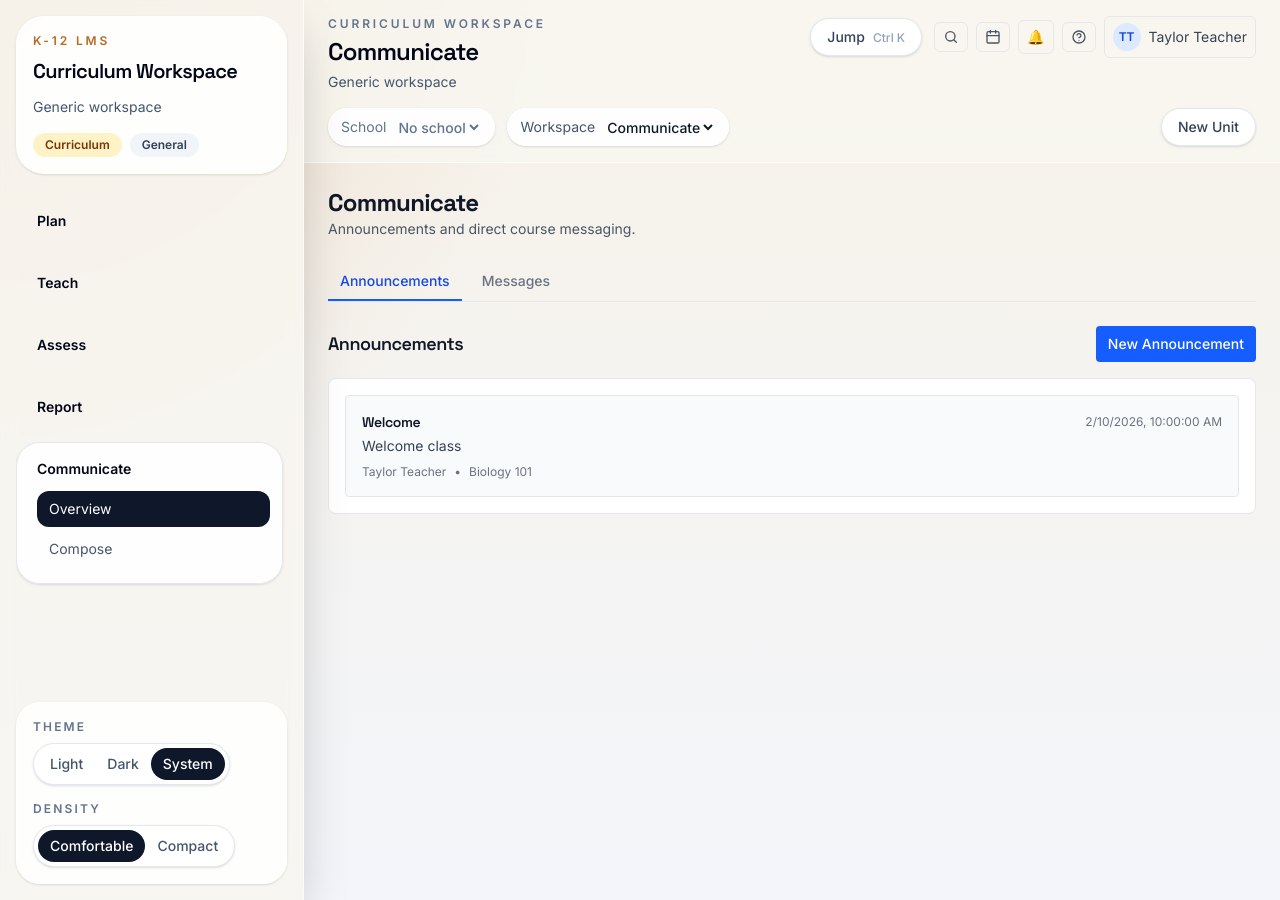
Communicate Page › switches to Messages tab
The image size is (1280, 900).
Step 1. Click the tab "Messages" → click(516, 282), box 470,263 -> 562,301
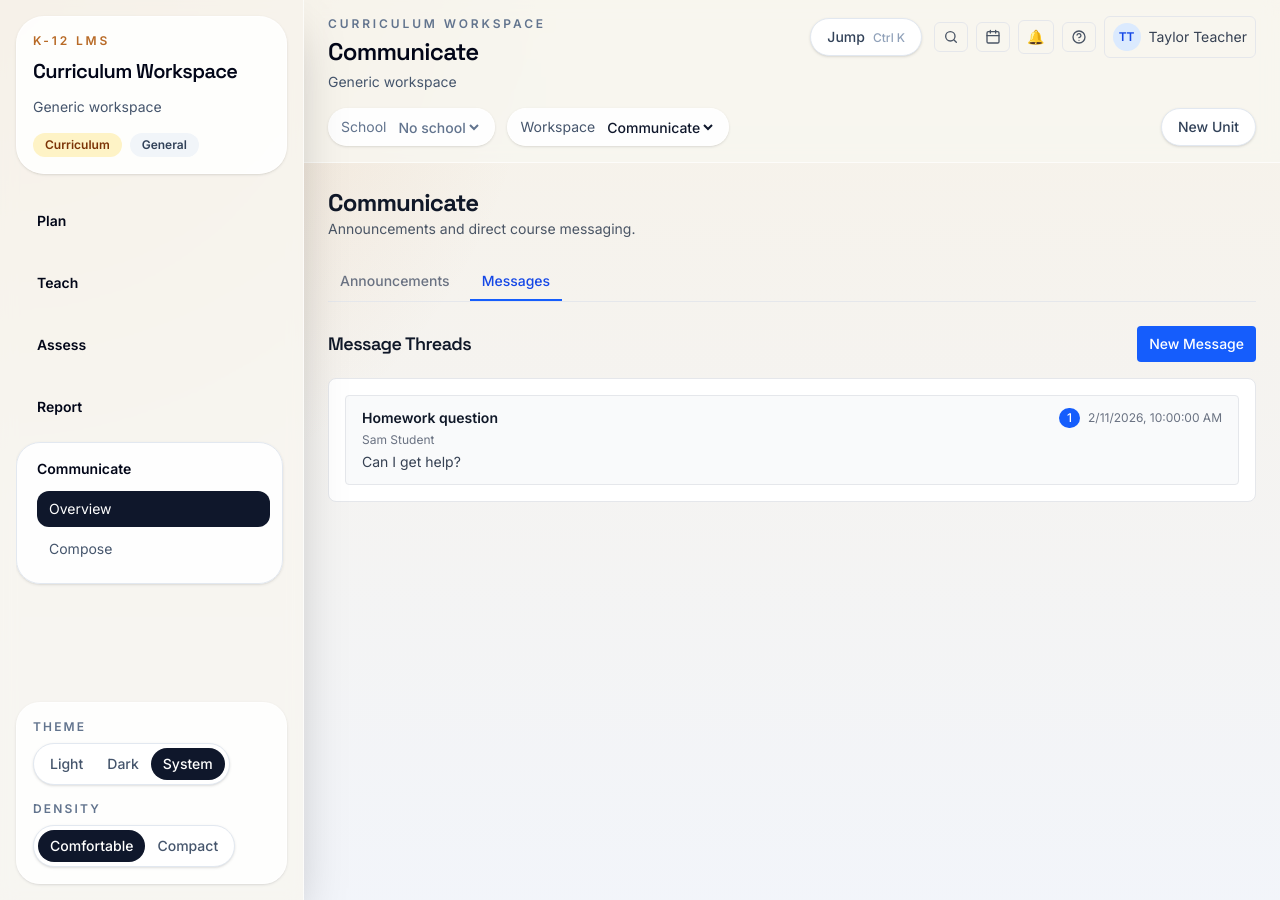
expect the heading "Message Threads" is shown: met, box 328,330 -> 471,358
